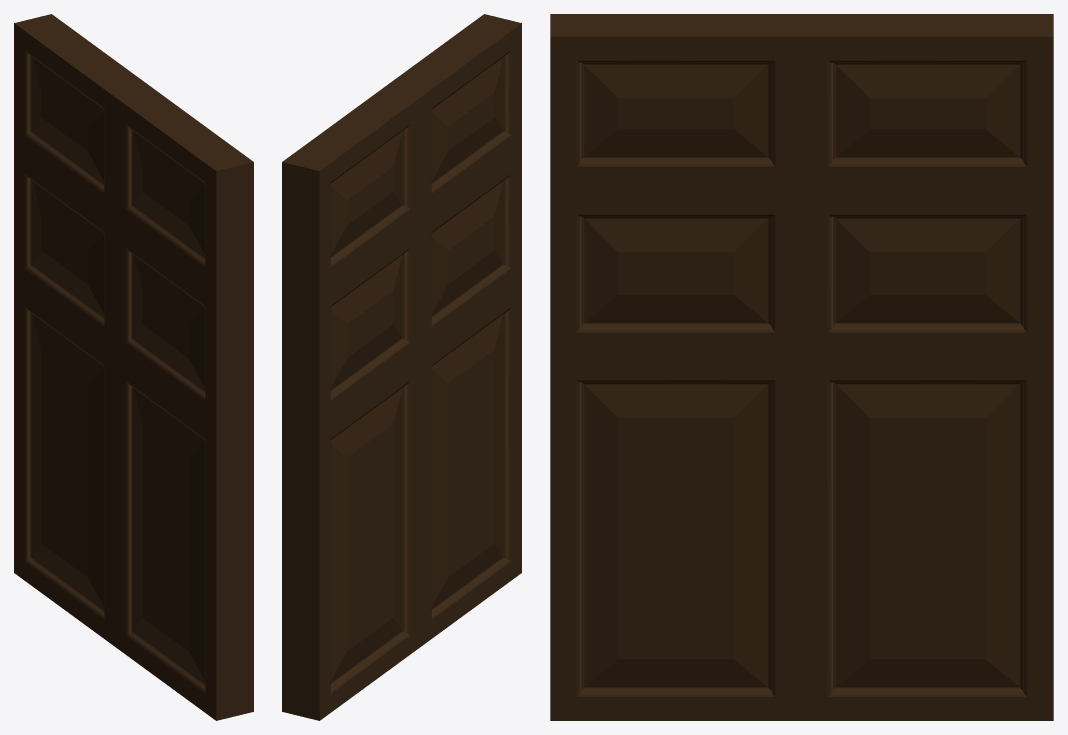
The model's file is Door.glb.
3 views of the same model, side by side, from view 1: azimuth 30°, elevation 25°; view 2: azimuth 150°, elevation 25°; view 3: azimuth 270°, elevation 25° (orthographic). The views are drawn at different scales.
Visible parts, largest first — view 1: Door; view 2: Door; view 3: Door.
Part boxes in pixels (bbox=[...]): Door: bbox=[14, 14, 253, 720]; Door: bbox=[282, 14, 521, 720]; Door: bbox=[550, 14, 1053, 720].
Bounding box in the file's own units: 0.7624 × 10.65 × 7.1.
